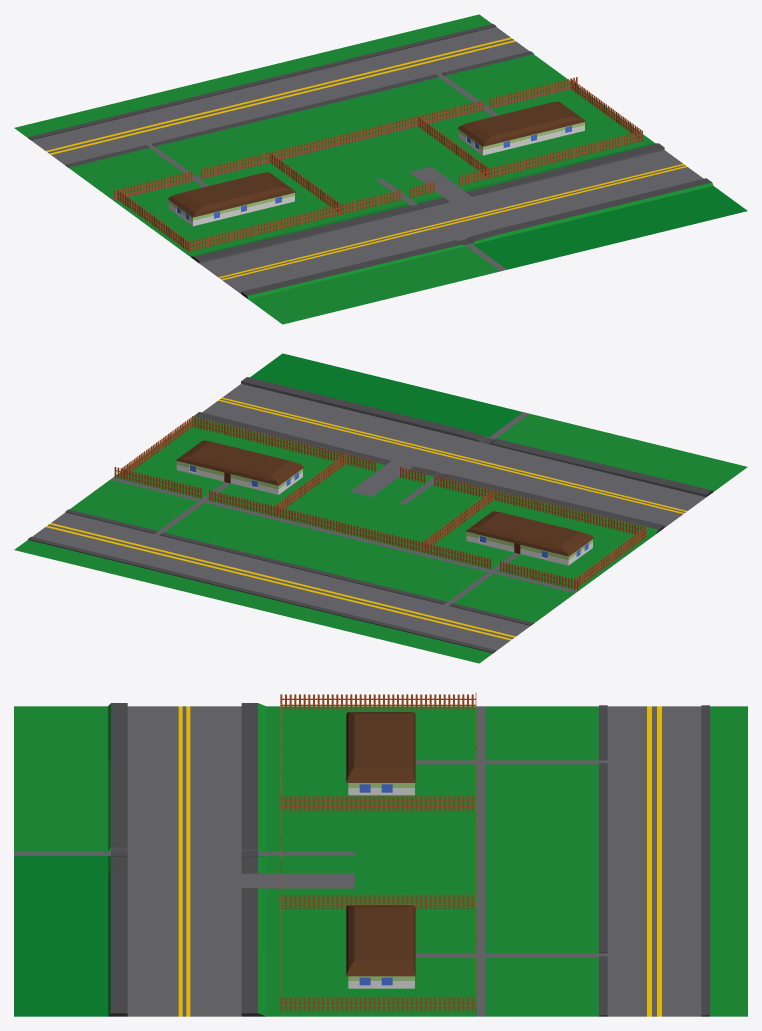
The model's file is Level1Env.fbx.
3 renders of one model, top to bottom at view 1: azimuth 30°, elevation 25°; view 2: azimuth 150°, elevation 25°; view 3: azimuth 270°, elevation 25°, orthographic. The views are drawn at different scales.
Visible parts, largest first — view 1: Plane, House2, House1, Fence12, Fence5, Fence7, Fence8, Fence17, Fence16, Fence9, Fence14, Fence10 (+1 smaller); view 2: Plane, House2, House1, Fence12, Fence7, Fence5, Fence14, Fence8, Fence16, Fence9, Fence17, Fence10 (+1 smaller); view 3: Plane, House2, House1, Fence17, Fence8, Fence9, Fence16.
Boxes of the visible parts, x1,y1,x2,y2 form: Plane: [14, 14, 747, 324]; House2: [168, 172, 295, 226]; House1: [457, 101, 585, 155]; Fence12: [201, 100, 482, 179]; Fence5: [490, 131, 640, 178]; Fence7: [188, 204, 339, 251]; Fence8: [117, 190, 189, 252]; Fence17: [571, 79, 642, 141]; Fence16: [418, 116, 489, 178]; Fence9: [270, 153, 341, 214]; Fence14: [490, 77, 576, 108]; Fence10: [114, 171, 190, 200]; Plane: [14, 353, 747, 663]; House2: [466, 511, 593, 565]; House1: [176, 440, 304, 494]; Fence12: [210, 490, 491, 569]; Fence7: [495, 490, 646, 536]; Fence5: [194, 416, 344, 462]; Fence14: [116, 467, 201, 498]; Fence8: [575, 526, 646, 588]; Fence16: [275, 453, 346, 515]; Fence9: [423, 489, 494, 551]; Fence17: [122, 416, 193, 478]; Fence10: [501, 561, 578, 590]; Plane: [14, 703, 747, 1016]; House2: [346, 712, 415, 795]; House1: [346, 905, 415, 988]; Fence17: [280, 996, 475, 1011]; Fence8: [280, 694, 475, 709]; Fence9: [280, 796, 475, 810]; Fence16: [280, 894, 475, 909].
Size of the model in its own units: 7999 by 265 by 7999.
